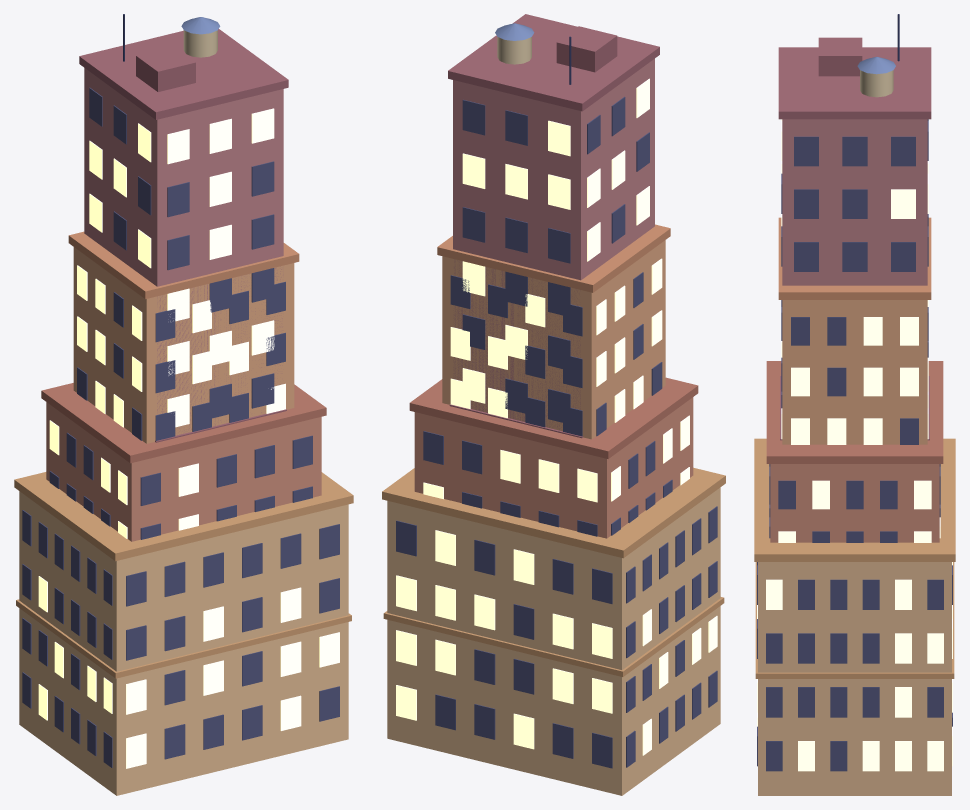
Rendered from kit.glb.
3 renders of one model, left to right at view 1: azimuth 30°, elevation 25°; view 2: azimuth 150°, elevation 25°; view 3: azimuth 270°, elevation 25°, orthographic.
Parts seen in each view (by area): view 1: bldg_d, bldg_c, bldg_a, bldg_b; view 2: bldg_d, bldg_c, bldg_a, bldg_b; view 3: bldg_d, bldg_c, bldg_a, bldg_b.
Boxes of the visible parts, box(x1,y1,x2,y2) form: bldg_d: box(14, 472, 353, 795); bldg_c: box(79, 14, 288, 442); bldg_a: box(68, 231, 299, 443); bldg_b: box(41, 383, 326, 541); bldg_d: box(382, 467, 725, 795); bldg_c: box(448, 14, 659, 438); bldg_a: box(437, 224, 670, 439); bldg_b: box(409, 377, 698, 538); bldg_d: box(754, 438, 955, 795); bldg_c: box(778, 14, 931, 440); bldg_a: box(778, 217, 931, 444); bldg_b: box(766, 361, 943, 542).
Bounding box in the file's own units: 11.3 × 32.21 × 8.3.
